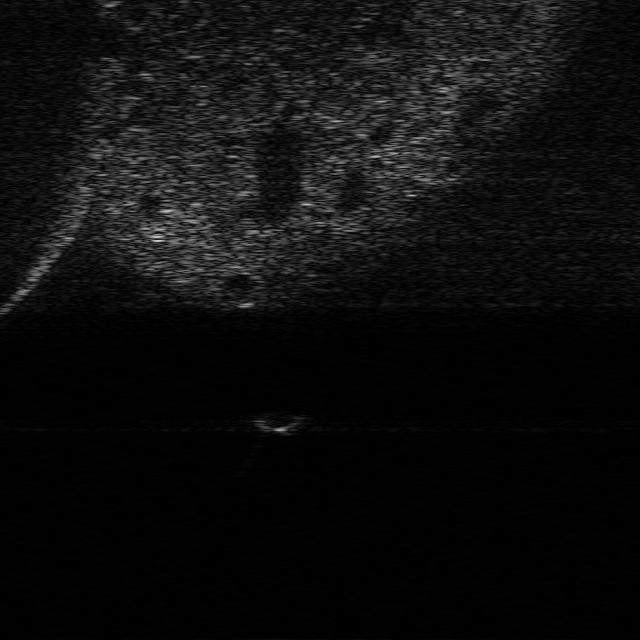cube: (254, 409, 308, 434)
